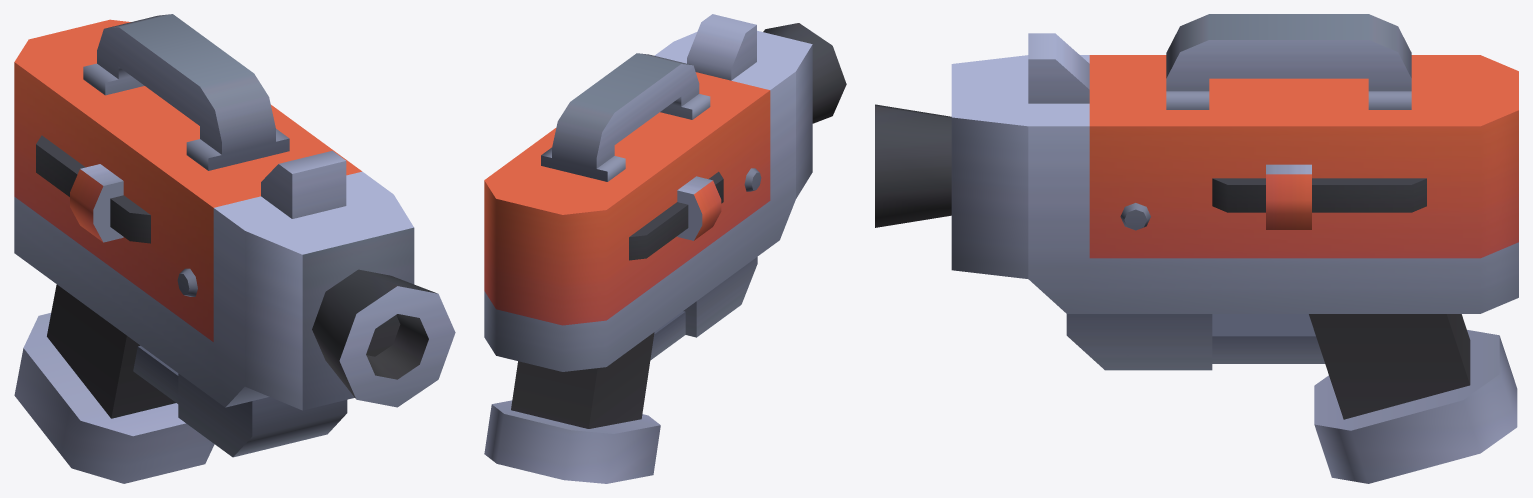
3 views of the same model, side by side, from view 1: azimuth 30°, elevation 25°; view 2: azimuth 150°, elevation 25°; view 3: azimuth 270°, elevation 25° (orthographic). The views are drawn at different scales.
Visible parts, largest first — view 1: blaster-b; view 2: blaster-b; view 3: blaster-b.
Part boxes in pixels (x1,y1,x2,y2): blaster-b: [14, 14, 455, 483]; blaster-b: [484, 14, 846, 483]; blaster-b: [875, 14, 1518, 483].
Size of the model in its own units: 0.1107 by 0.2217 by 0.3.
1 material, 1 textured.
